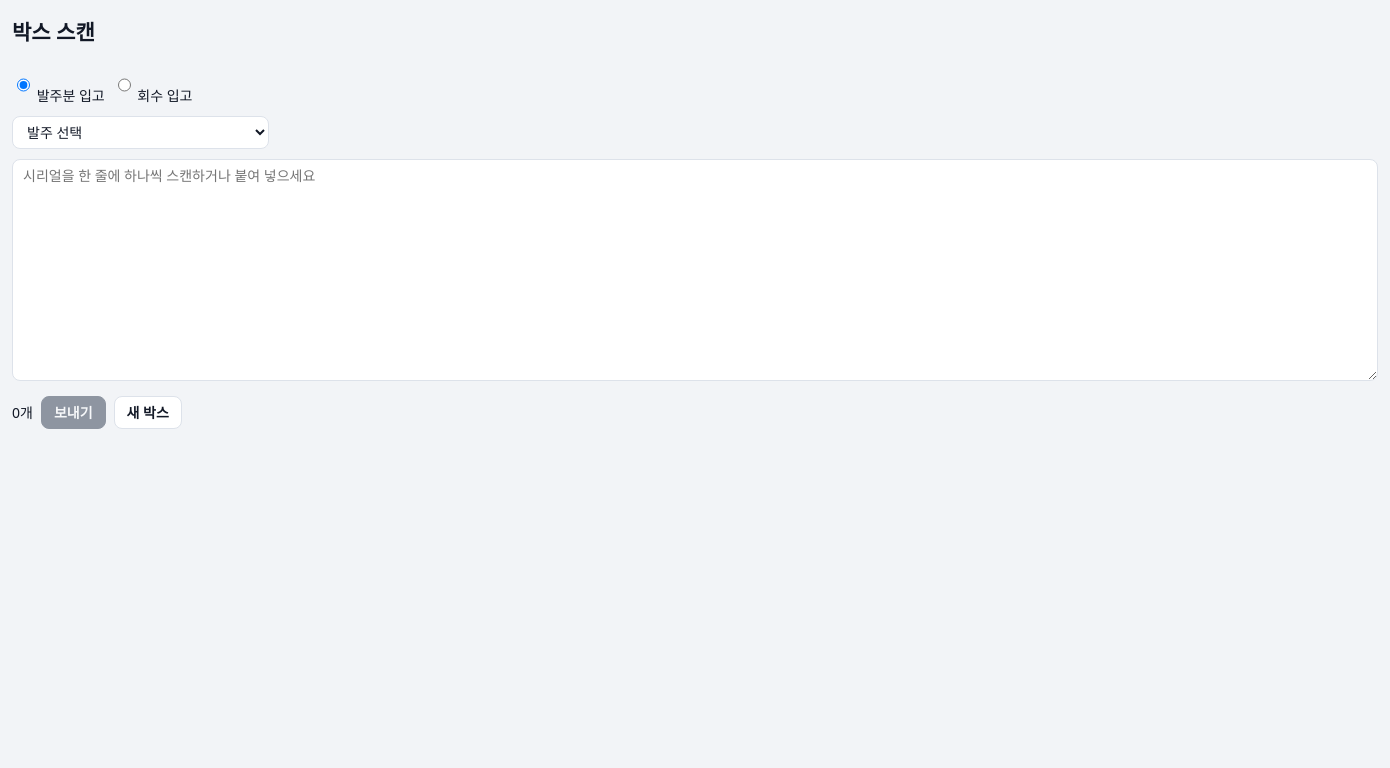
Test: 박스 스캔 리뷰 반영 (Task 6 리뷰) › 스캔이 성공하면 발주 목록도 다시 읽는다(입고로 ORDERED → RECEIVING)
Select "SE0003 SN-100 50대 (RECEIVING)" in the dropdown named "발주": (140, 133) [12,116,269,149]
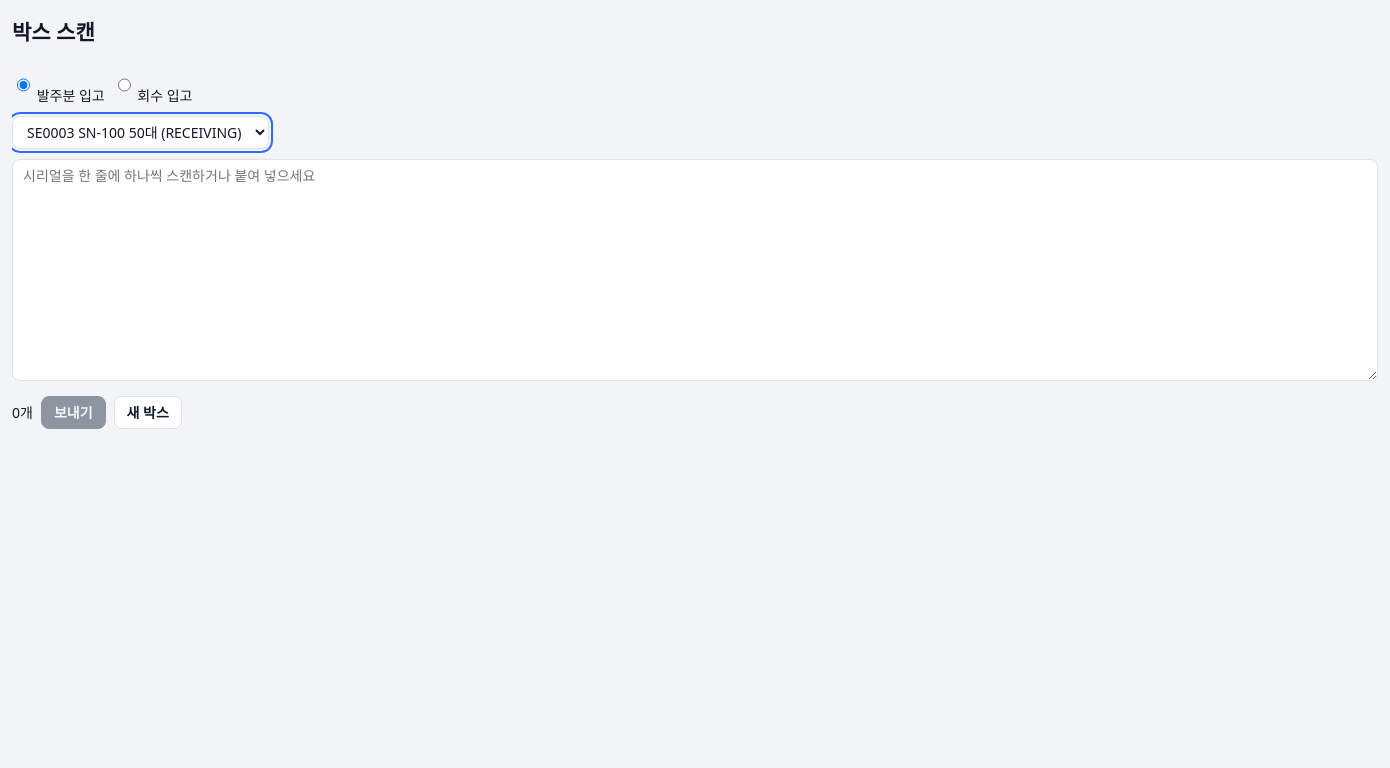
In the text box labelled "시리얼": (695, 270) [12,159,1378,381], type "AA-0001 AA-0002"
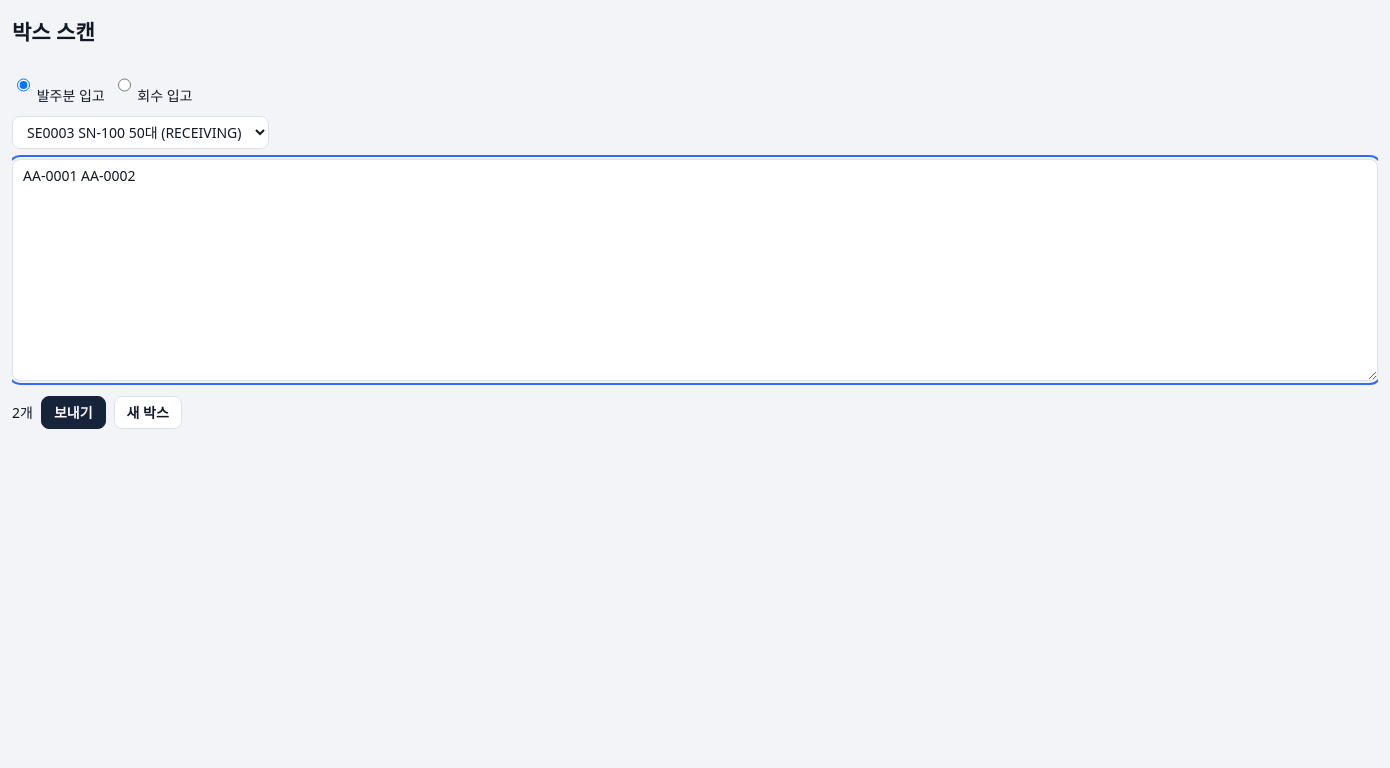
Click the button "보내기": (73, 413) [41,396,106,429]
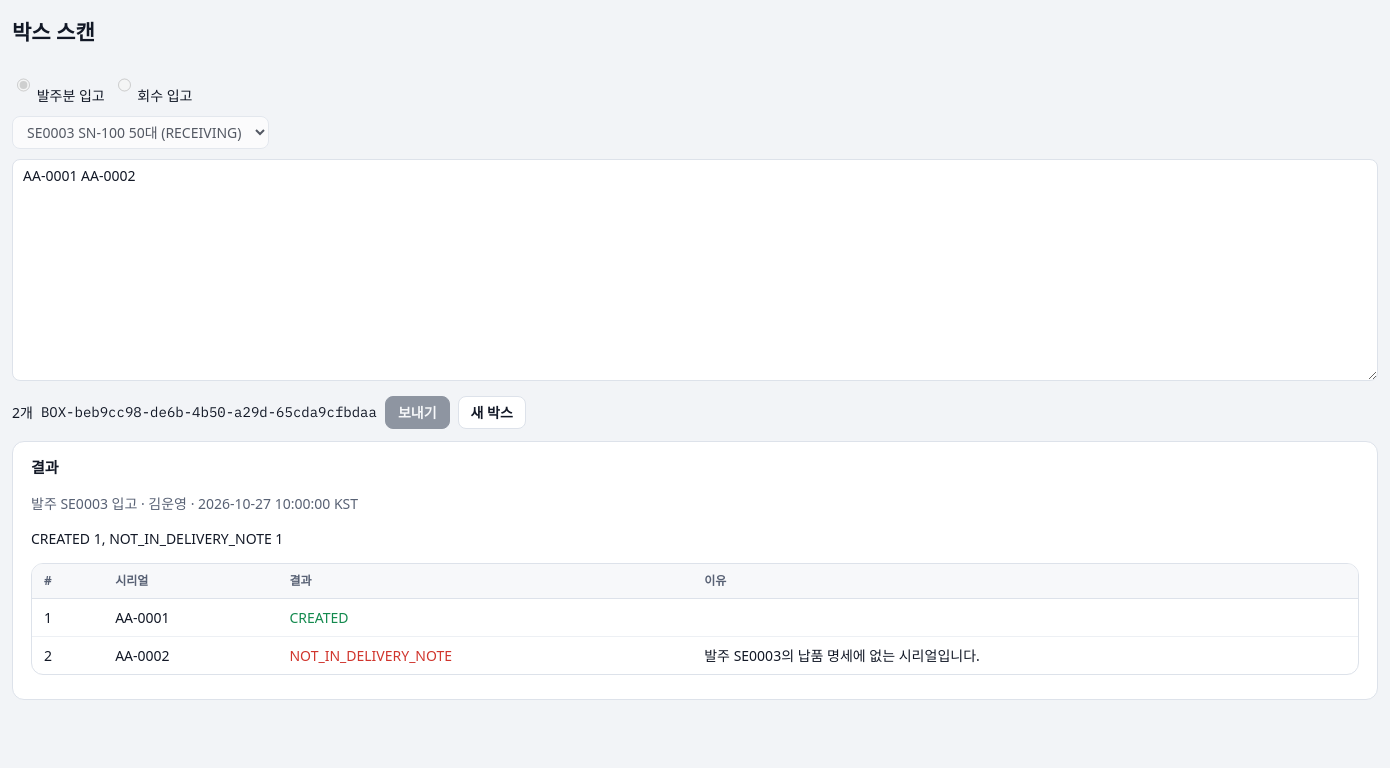
Now the text "NOT_IN_DELIVERY_NOTE" is shown, box [278,637,692,674]
